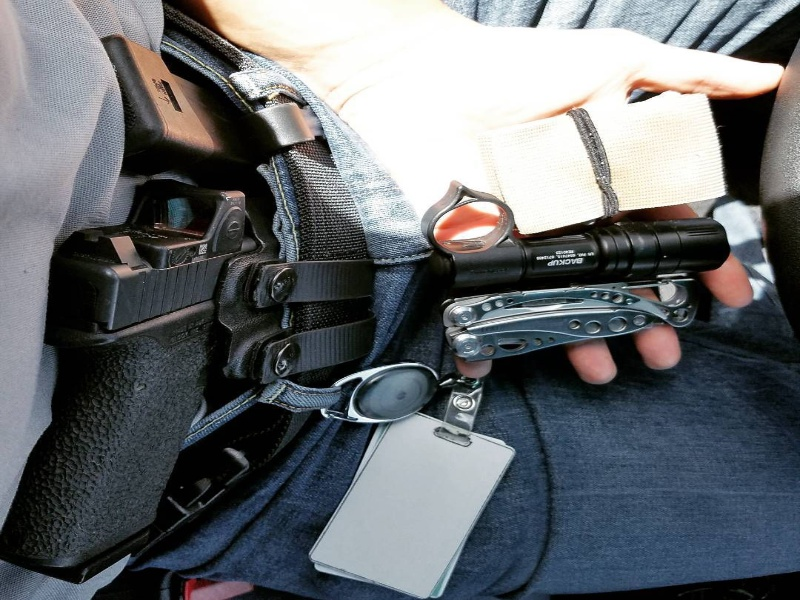gun: (15, 194, 381, 565)
